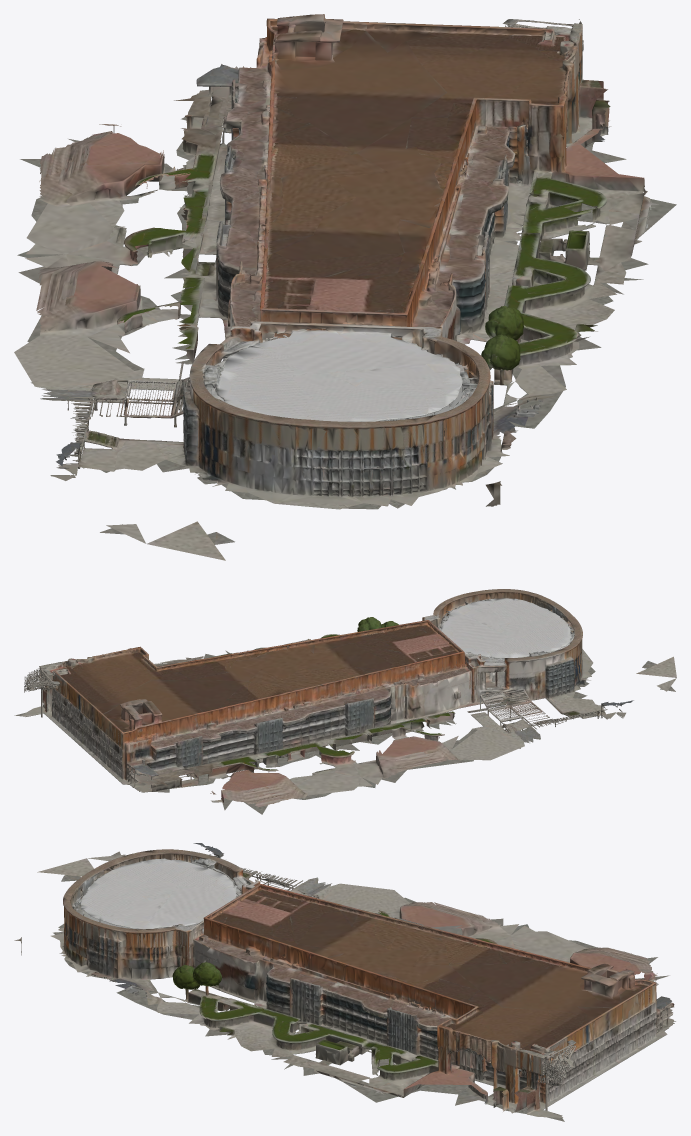
The model's file is HALLS_1_5.glb.
3 renders of one model, top to bottom at view 1: azimuth 30°, elevation 25°; view 2: azimuth 150°, elevation 25°; view 3: azimuth 270°, elevation 25°, orthographic. The views are drawn at different scales.
Visible parts, largest first — view 1: HALLS_1_5; view 2: HALLS_1_5; view 3: HALLS_1_5.
Boxes of the visible parts, x1,y1,x2,y2 form: HALLS_1_5: [14, 14, 676, 560]; HALLS_1_5: [14, 589, 676, 814]; HALLS_1_5: [14, 843, 675, 1121].
Size of the model in its own units: 429 by 59.01 by 444.
Materials: 1 (1 with a texture image).
